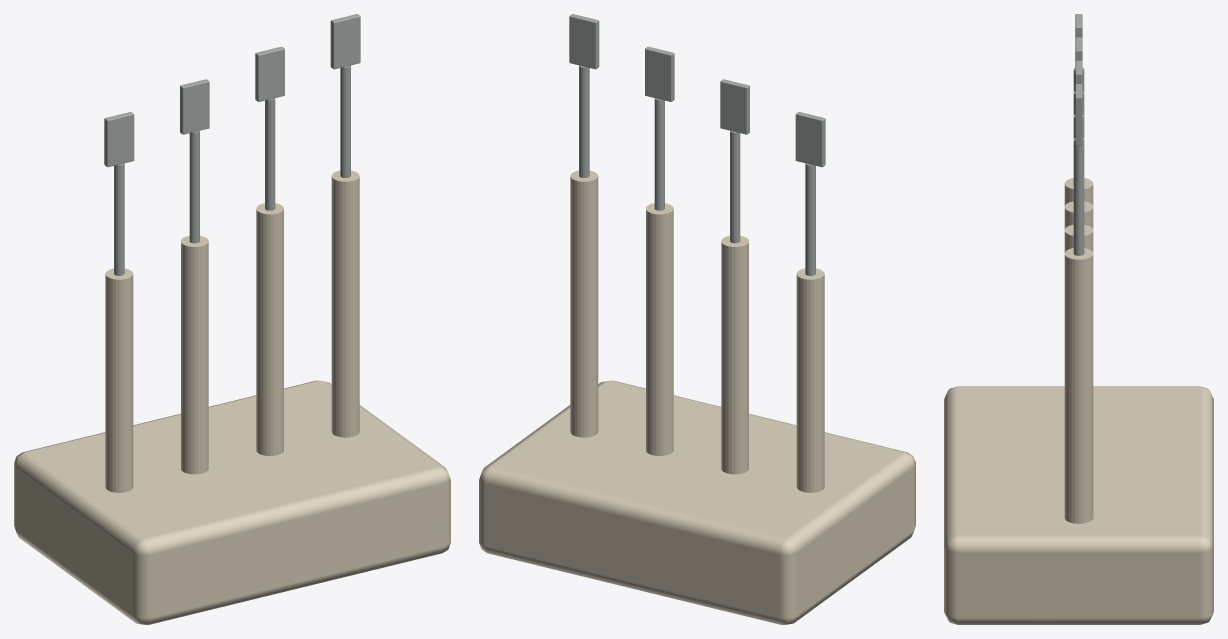
The model's file is museum-conservation-and-art-restoration-museum-conserv-15162e91__31898.glb.
3 views of the same model, side by side, from view 1: azimuth 30°, elevation 25°; view 2: azimuth 150°, elevation 25°; view 3: azimuth 270°, elevation 25° (orthographic). The views are drawn at different scales.
Visible parts, largest first — view 1: museum-conservation-and-art-restoration-micro-spatula-tool-b (×2); view 2: museum-conservation-and-art-restoration-micro-spatula-tool-b (×2); view 3: museum-conservation-and-art-restoration-micro-spatula-tool-b (×2).
Boxes of the visible parts, x1,y1,x2,y2 form: museum-conservation-and-art-restoration-micro-spatula-tool-b (×2): [14, 14, 450, 624]; museum-conservation-and-art-restoration-micro-spatula-tool-b (×2): [479, 14, 915, 624]; museum-conservation-and-art-restoration-micro-spatula-tool-b (×2): [944, 14, 1213, 624].
Size of the model in its own units: 0.21 by 0.317 by 0.15.
